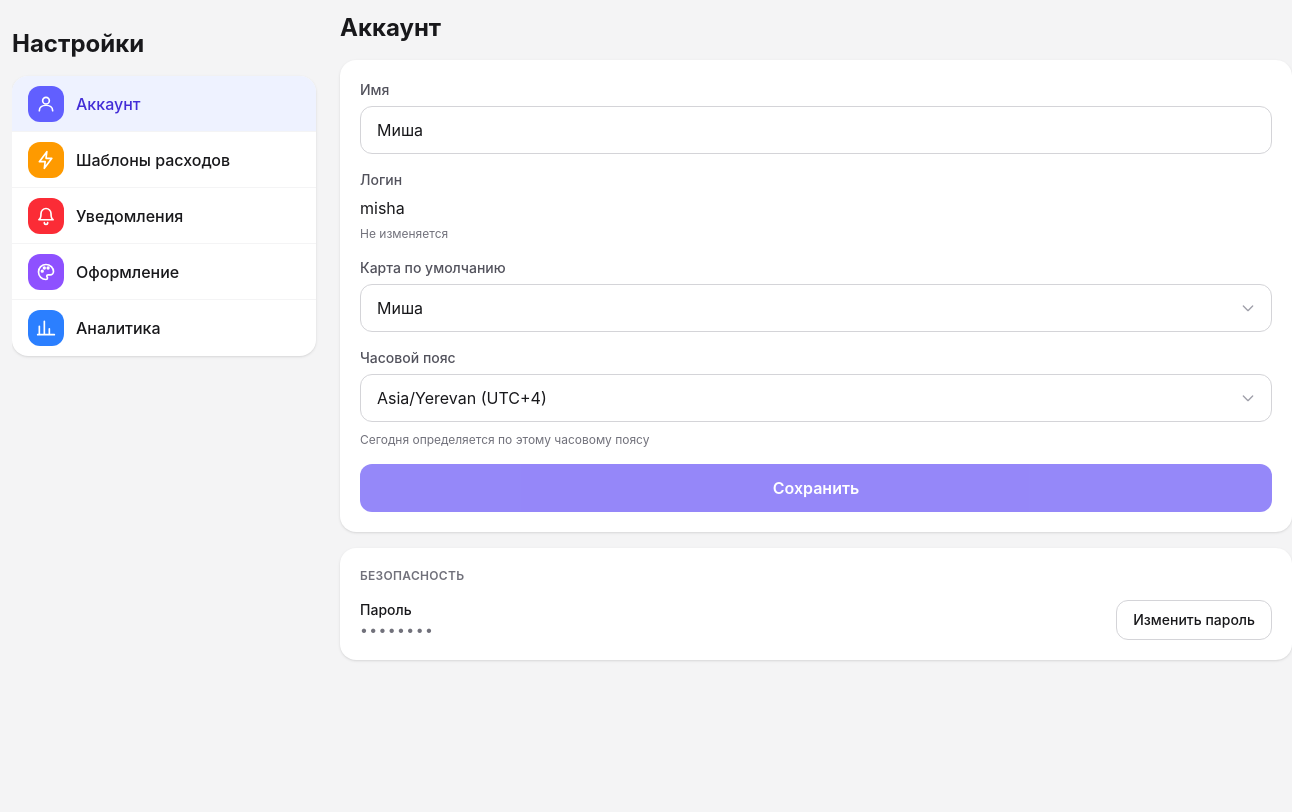
Scenario: аккаунт › после сохранения новый часовой пояс определяет «сегодня» во всём приложении
Expected: the heading "Аккаунт" is shown, [340, 13, 441, 42]
Select "America/New_York (UTC-4)" in the dropdown labelled "Часовой пояс": (816, 398) [360, 374, 1272, 422]
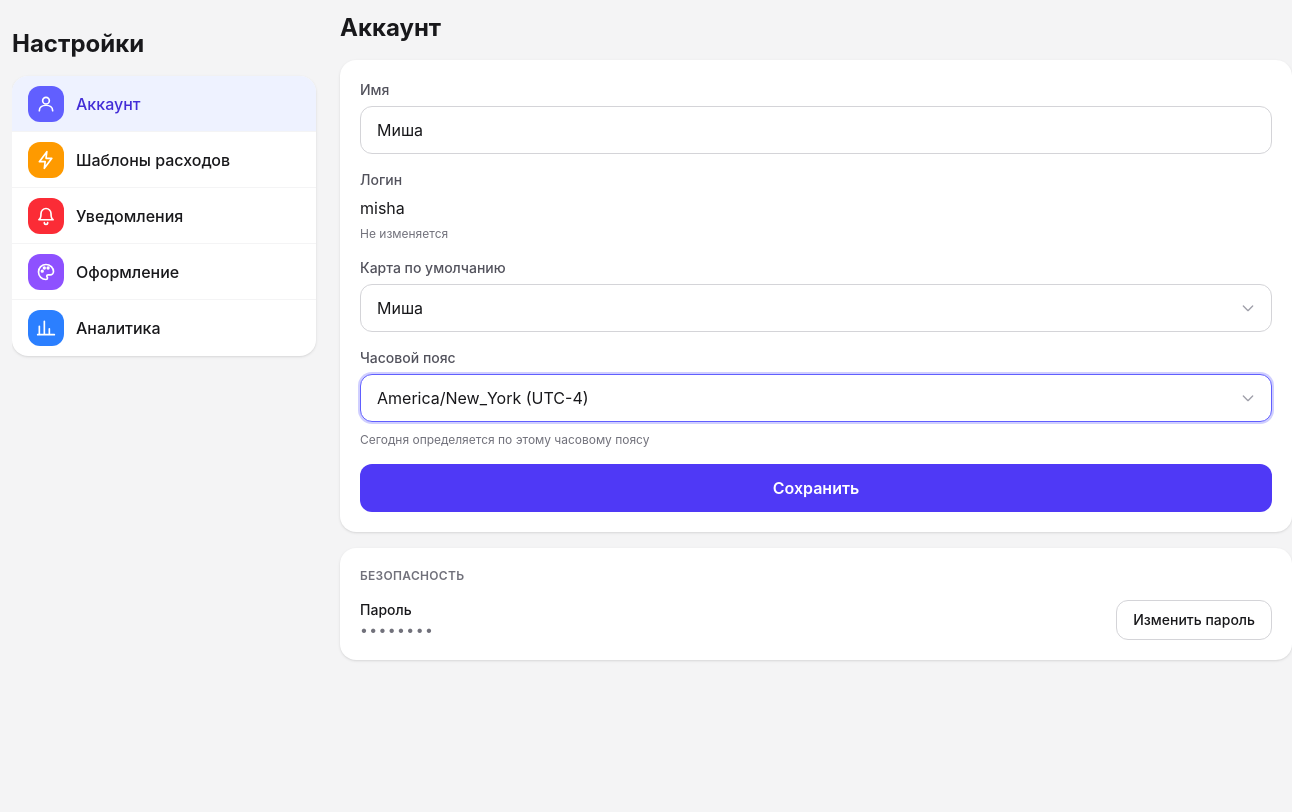
Click the button "Сохранить": (816, 488) [360, 464, 1272, 512]
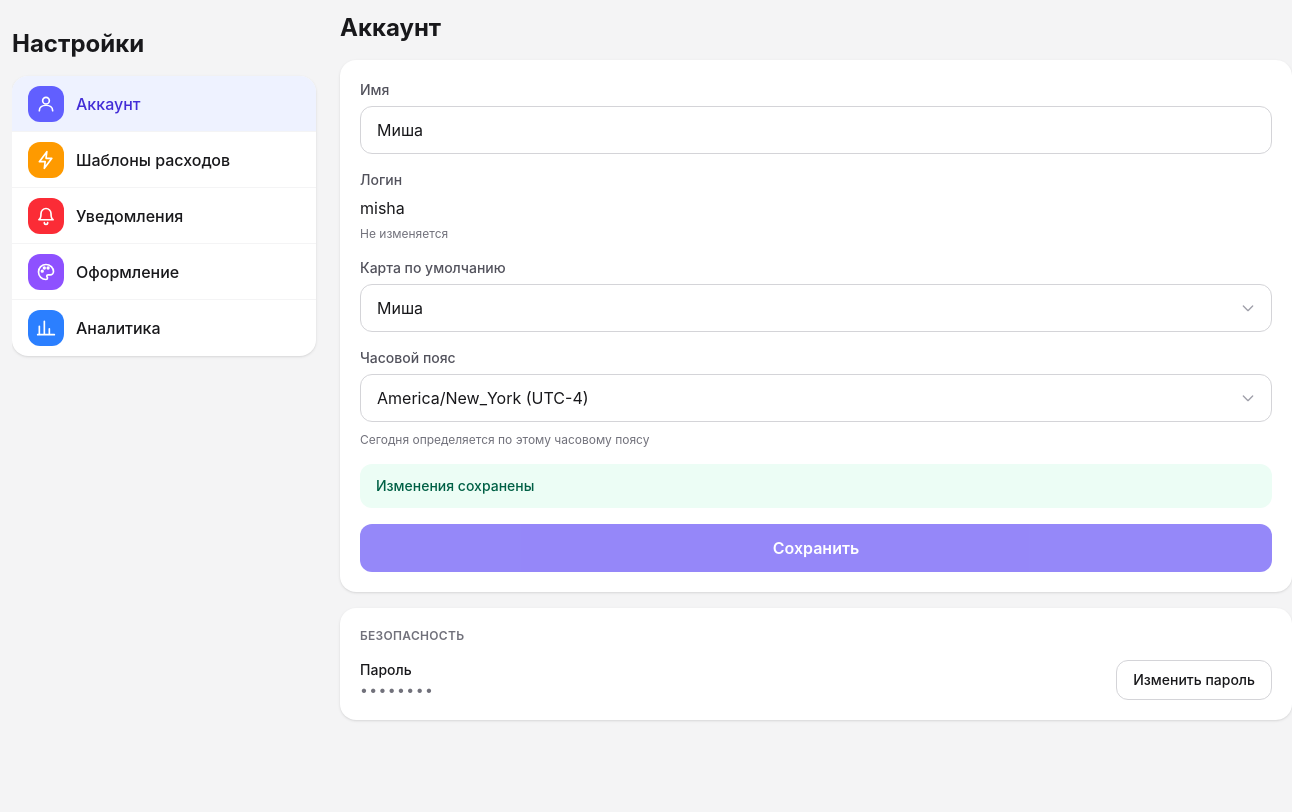
Expected: the text "Изменения сохранены" is shown, [360, 464, 1272, 508]
